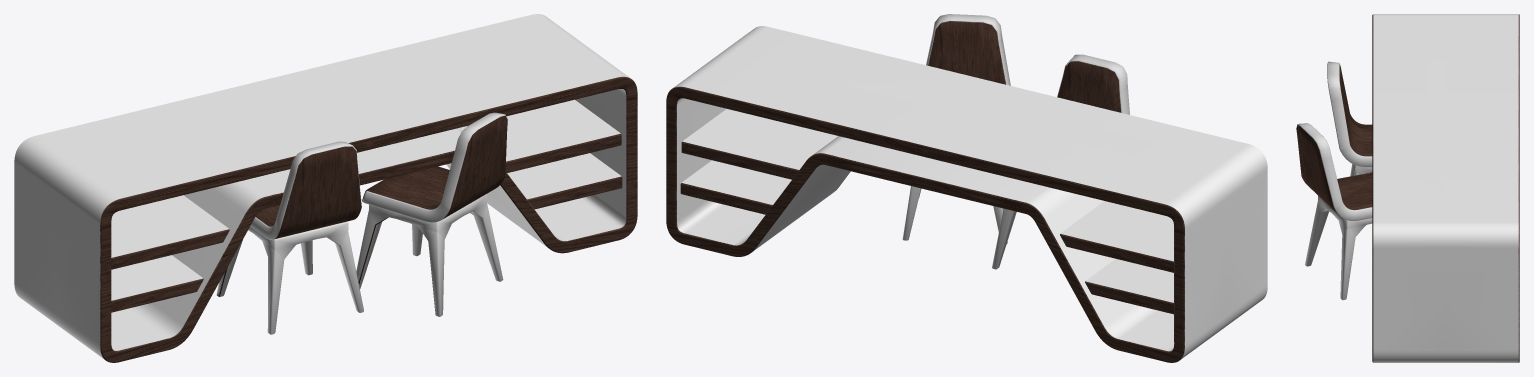
The model's file is mesa1.glb.
3 views of the same model, side by side, from view 1: azimuth 30°, elevation 25°; view 2: azimuth 150°, elevation 25°; view 3: azimuth 270°, elevation 25° (orthographic). The views are drawn at different scales.
Visible parts, largest first — view 1: Line001_Material #25_0, Box001_Material #26_0, Box002_Material #26_0; view 2: Line001_Material #25_0, Box001_Material #26_0, Box002_Material #26_0; view 3: Line001_Material #25_0, Box001_Material #26_0, Box002_Material #26_0.
Boxes of the visible parts, x1,y1,x2,y2 form: Line001_Material #25_0: (14, 14, 637, 362); Box001_Material #26_0: (356, 112, 507, 316); Box002_Material #26_0: (216, 141, 363, 334); Line001_Material #25_0: (666, 26, 1267, 362); Box001_Material #26_0: (902, 14, 1010, 244); Box002_Material #26_0: (992, 54, 1129, 269); Line001_Material #25_0: (1372, 14, 1519, 362); Box001_Material #26_0: (1296, 123, 1372, 300); Box002_Material #26_0: (1327, 61, 1372, 176).
Size of the model in its own units: 3.63 by 1.21 by 1.54.
2 materials, 2 textured.
